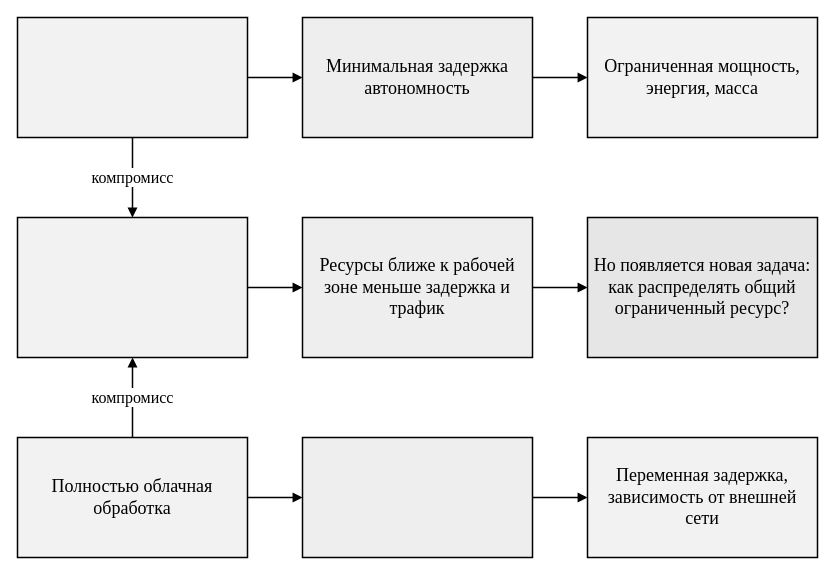
Image size: 836x576. Some labels were removed from this diagram. The centre of each missing label's shape, as x and y in pixels:
"Масштабируемые ресурсы" goes at point (417, 497).
"Периферийные вычисления" goes at point (132, 287).
"Полностью бортовая обработка" goes at point (132, 77).
